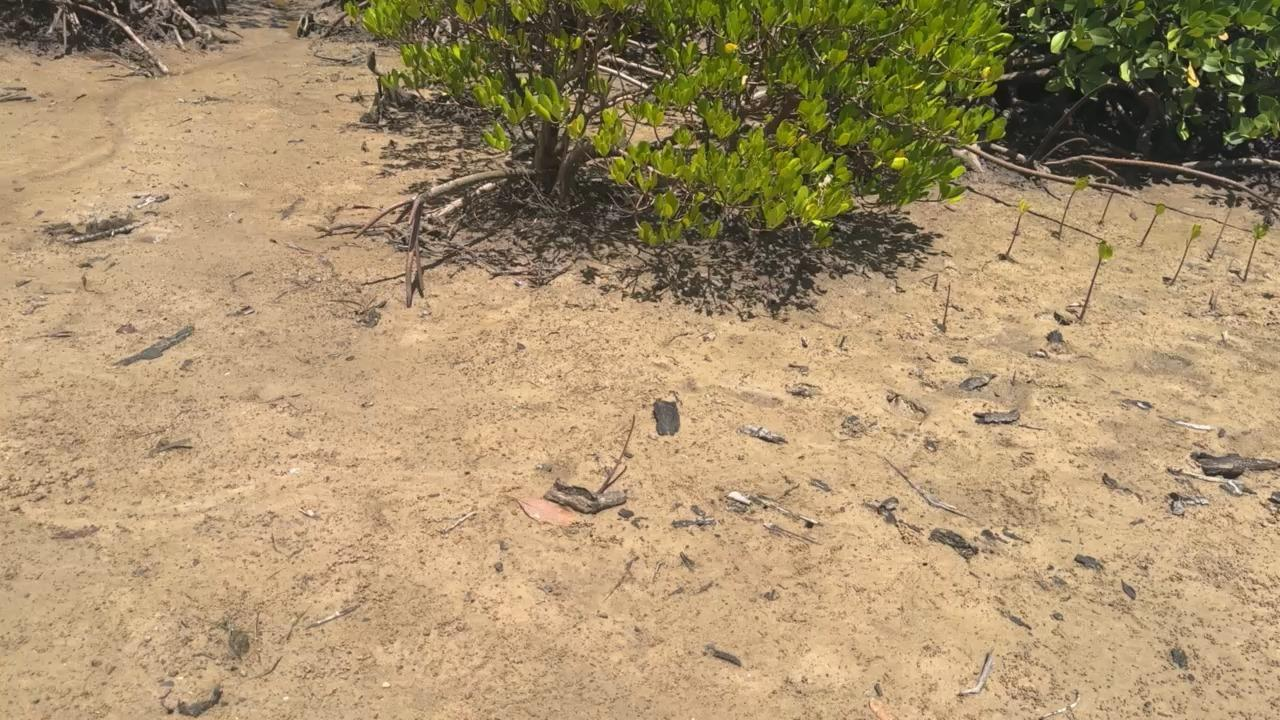Tree: (1080, 240, 1112, 320), (1058, 177, 1089, 239), (1170, 224, 1202, 284), (1245, 222, 1269, 279), (1006, 198, 1030, 254), (1140, 203, 1165, 246), (1101, 190, 1114, 223)
